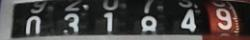digits: (132, 12, 164, 38), (18, 13, 52, 36), (174, 7, 201, 34), (96, 10, 125, 35), (211, 6, 235, 34), (62, 12, 86, 34)
